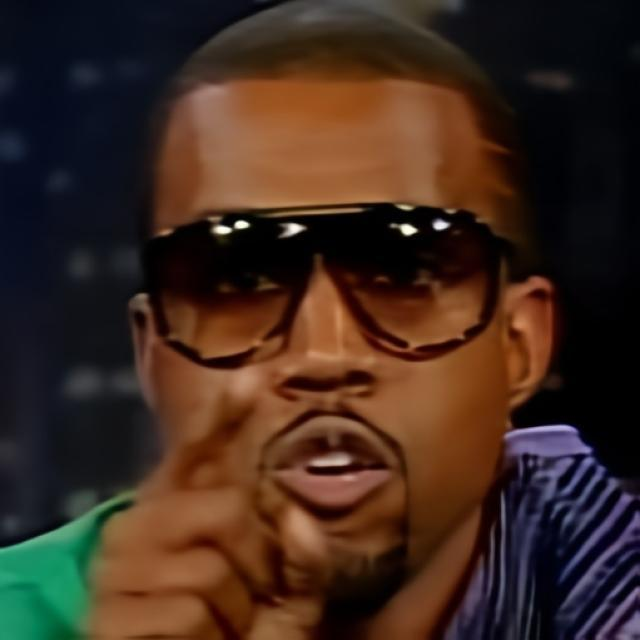surprise: (157, 56, 506, 608)
